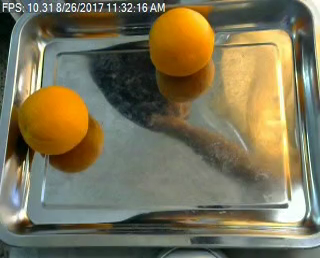Orange: (15, 85, 88, 152), (147, 8, 214, 77)
